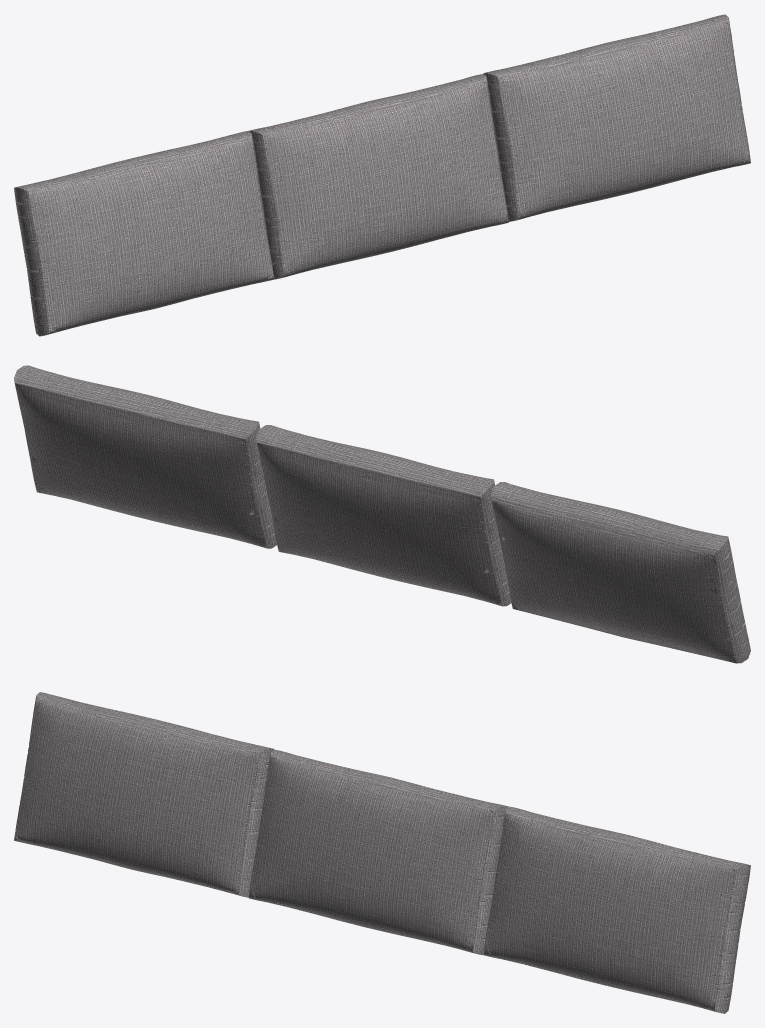
The model's file is Sofa pillows.FBX.
3 views of the same model, one above another, from view 1: azimuth 30°, elevation 25°; view 2: azimuth 150°, elevation 25°; view 3: azimuth 330°, elevation 25° (orthographic).
Parts seen in each view (by area): view 1: sofa pillows; view 2: sofa pillows; view 3: sofa pillows.
Boxes of the visible parts, left/top/right/bottom form: sofa pillows: left=14, top=14, right=750, bottom=336; sofa pillows: left=14, top=365, right=750, bottom=663; sofa pillows: left=14, top=692, right=750, bottom=1013.
Bounding box in the file's own units: 278 × 51.04 × 27.56.
Materials: 1 (1 with a texture image).
